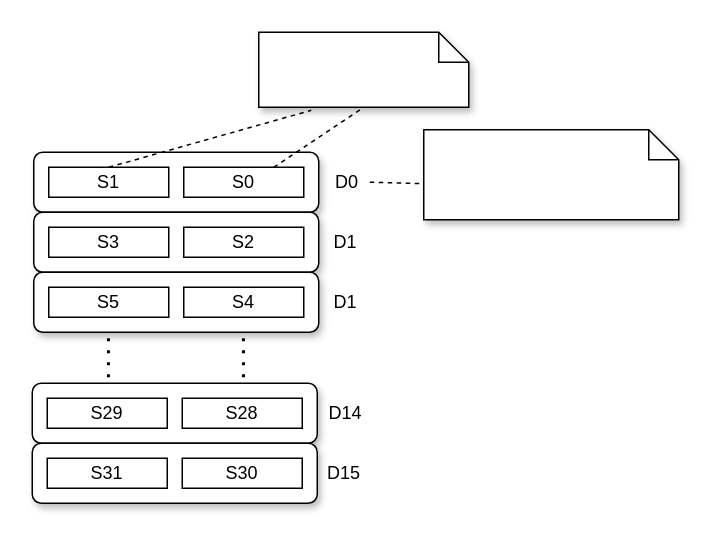
The diagram is 714 pixels wide and 540 high, and some of its shapes have lost their labels. The centre of each missing label's shape, as x and y in pixels:
Single double- precisition 64-bit register made up of two 32-bit registers): the point at 552,176
Two single-precision 32-bit registers: the point at 364,71
